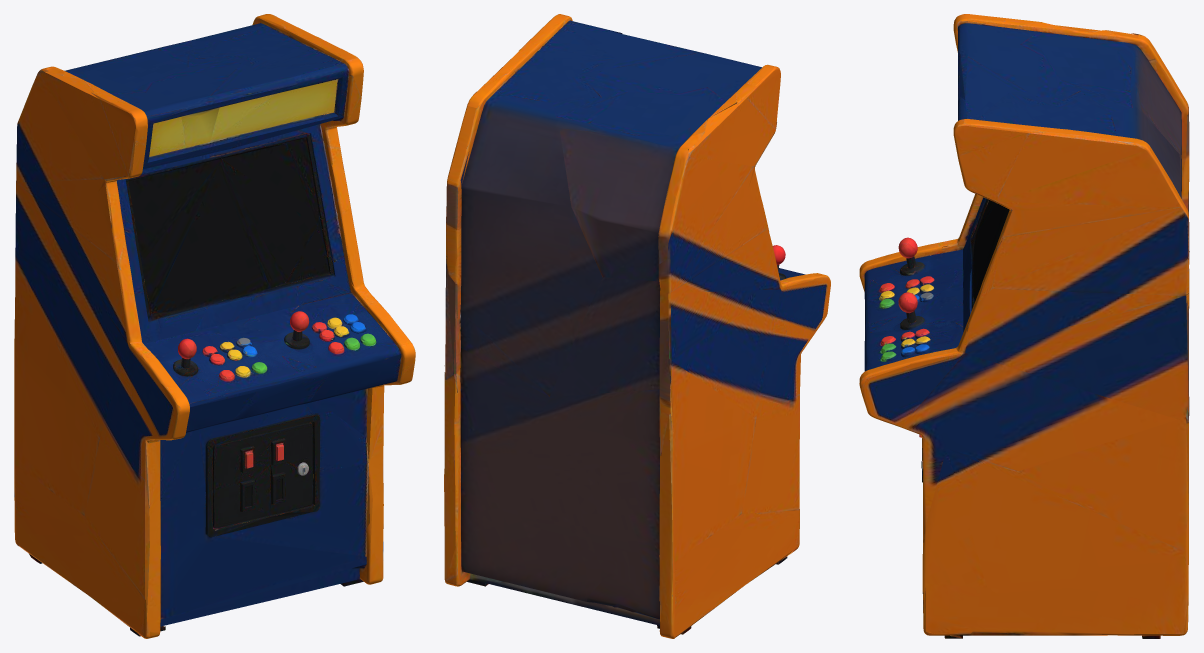
File: arcade.glb
3 renders of one model, left to right at view 1: azimuth 30°, elevation 25°; view 2: azimuth 150°, elevation 25°; view 3: azimuth 270°, elevation 25°, orthographic. The views are drawn at different scales.
Size of the model in its own units: 0.9271 by 1.9 by 1.11.
Materials: 1 (1 with a texture image).
